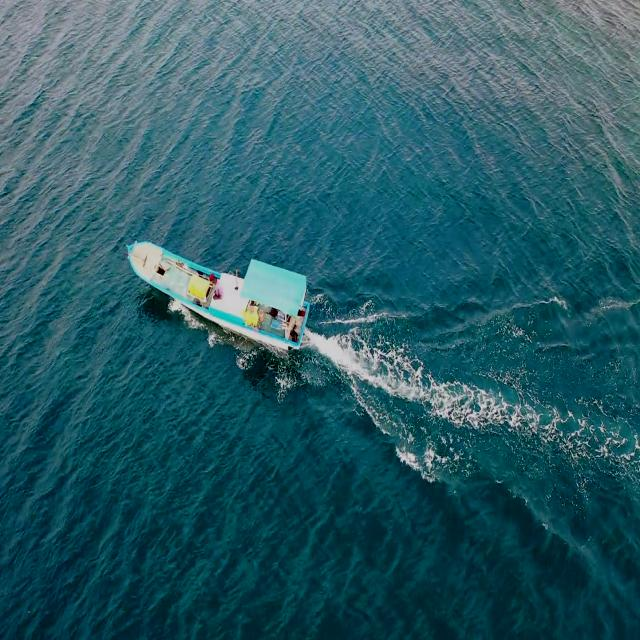ship: (120, 231, 310, 371)
